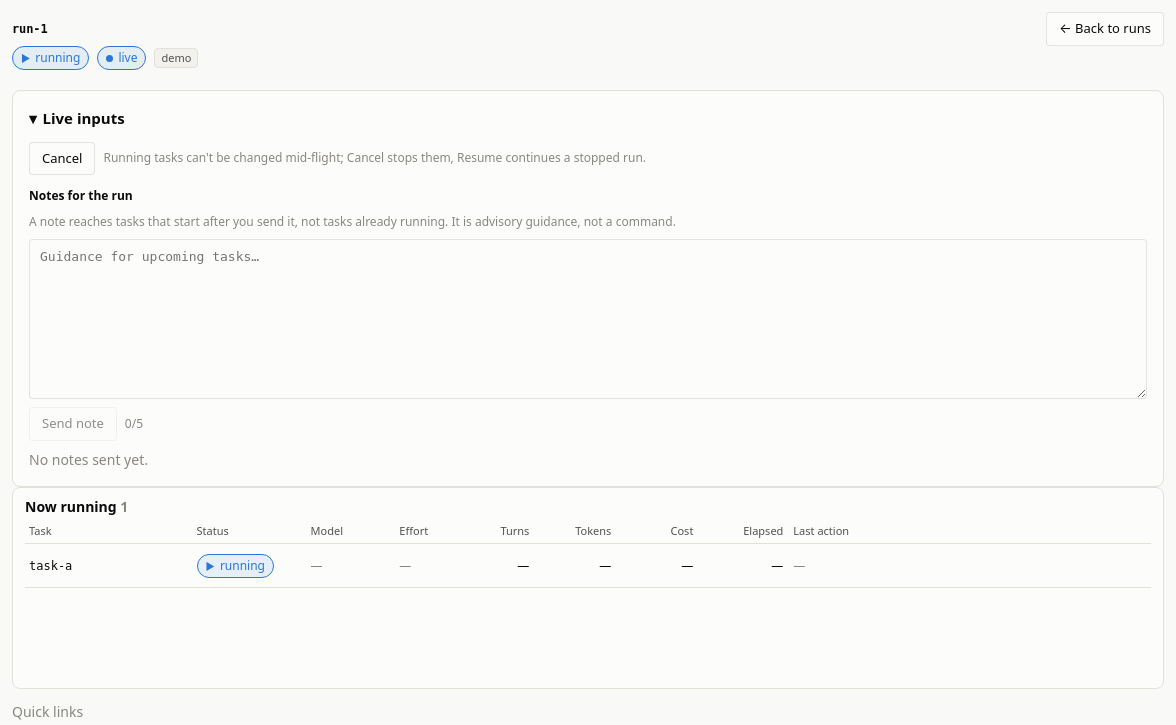
Scenario: operator notes box › blocks empty and over-limit drafts client-side
The width and height of the screenshot is (1176, 725).
Expected: the button "Send note" is disabled, [29,407,117,440]
Type "123456" into the text box named "Operator note" at x=588, y=319, box [29,239,1147,399]
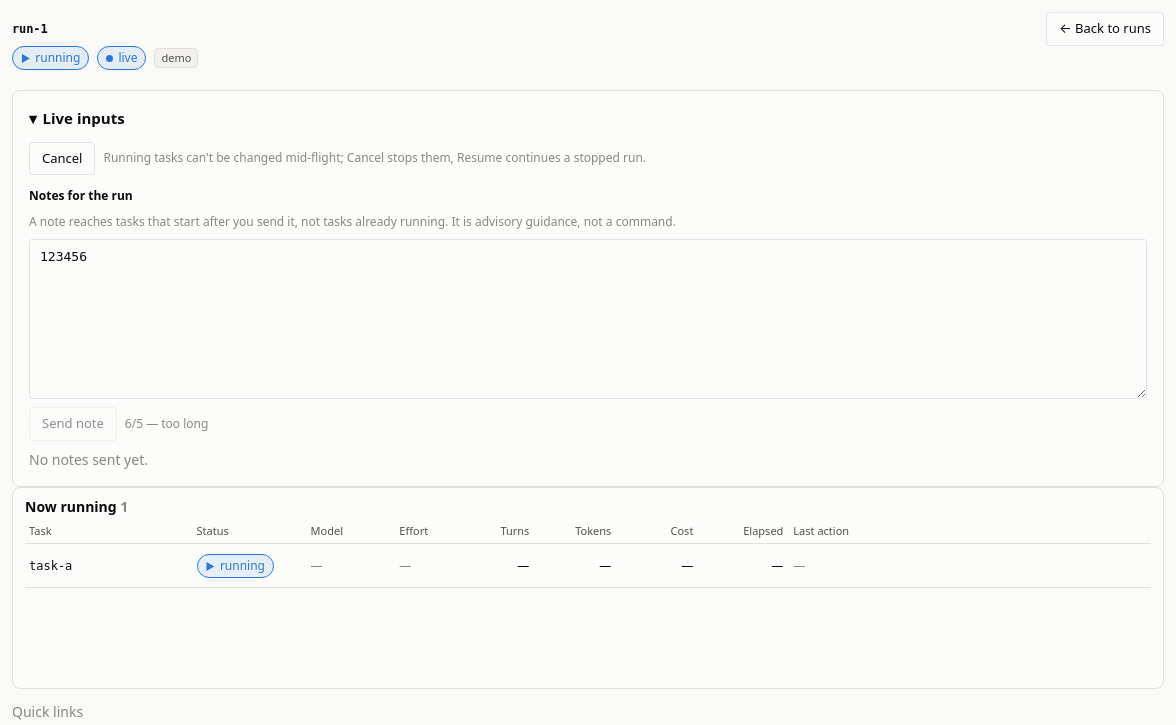
Expected: the button "Send note" is disabled, [29,407,117,440]
Expected: the message shows "too long", [143,415,208,432]
Replace the text in the text box named "Operator note" with "12345" at x=588, y=319, box [29,239,1147,399]
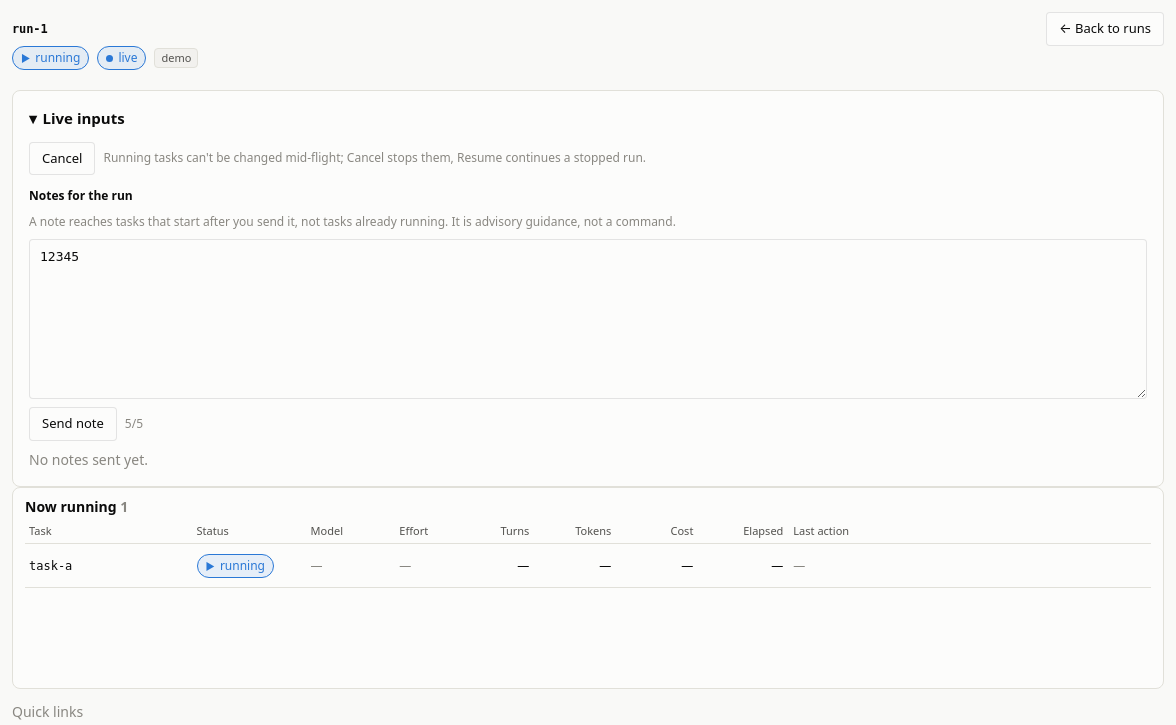
Expected: the button "Send note" is enabled, [29,407,117,440]
